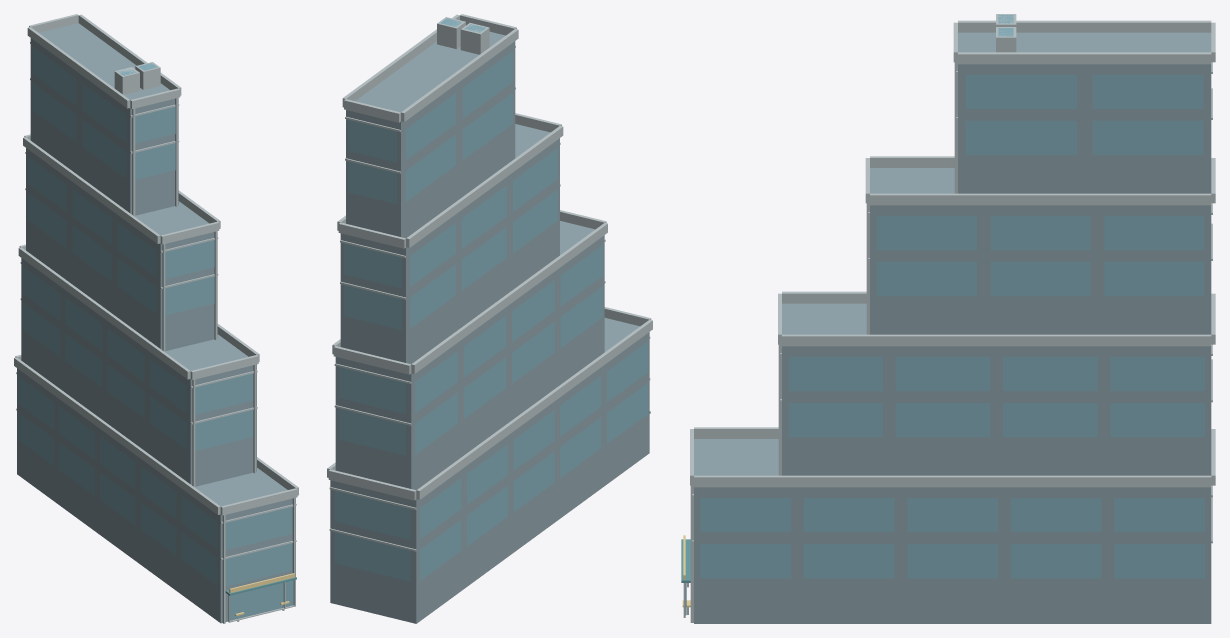
File: commercial_1x4_terraces.glb
3 views of the same model, side by side, from view 1: azimuth 30°, elevation 25°; view 2: azimuth 150°, elevation 25°; view 3: azimuth 270°, elevation 25° (orthographic). The views are drawn at different scales.
Parts seen in each view (by area): view 1: commercial_1x4_terraces_0; view 2: commercial_1x4_terraces_0; view 3: commercial_1x4_terraces_0.
Boxes of the visible parts, left/top/right/bottom form: commercial_1x4_terraces_0: left=14, top=14, right=298, bottom=623; commercial_1x4_terraces_0: left=327, top=14, right=652, bottom=623; commercial_1x4_terraces_0: left=681, top=14, right=1215, bottom=623.
Bounding box in the file's own units: 7 × 37.5 × 31.5.
